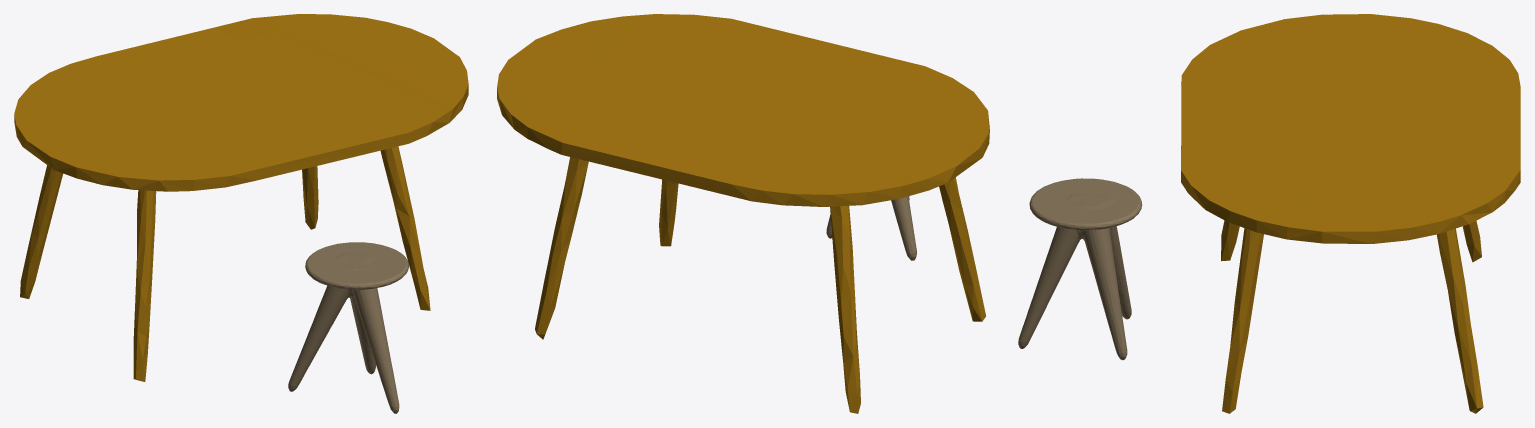
The model's file is tischMitHocker.glb.
The picture shows the model from 3 angles, left to right: view 1: azimuth 30°, elevation 25°; view 2: azimuth 150°, elevation 25°; view 3: azimuth 270°, elevation 25°; orthographic projection. The views are drawn at different scales.
Visible parts, largest first — view 1: 282337_23_05_24_18_01_18_2, 282337_23_05_24_18_01_18_1, 281895_23_05_30_08_38_31_1; view 2: 282337_23_05_24_18_01_18_2, 282337_23_05_24_18_01_18_1, 281895_23_05_30_08_38_31_1; view 3: 282337_23_05_24_18_01_18_2, 281895_23_05_30_08_38_31_1, 282337_23_05_24_18_01_18_1.
Part boxes in pixels (left/top/right/bottom): 282337_23_05_24_18_01_18_2: left=14, top=14, right=468, bottom=191; 282337_23_05_24_18_01_18_1: left=20, top=146, right=430, bottom=381; 281895_23_05_30_08_38_31_1: left=288, top=242, right=408, bottom=413; 282337_23_05_24_18_01_18_2: left=497, top=14, right=989, bottom=206; 282337_23_05_24_18_01_18_1: left=535, top=157, right=985, bottom=413; 281895_23_05_30_08_38_31_1: left=826, top=196, right=916, bottom=260; 282337_23_05_24_18_01_18_2: left=1181, top=14, right=1520, bottom=243; 281895_23_05_30_08_38_31_1: left=1018, top=178, right=1142, bottom=360; 282337_23_05_24_18_01_18_1: left=1221, top=220, right=1483, bottom=413.
Bounding box in the file's own units: 5.54 × 2.66 × 5.4.
3 materials, 3 textured.
